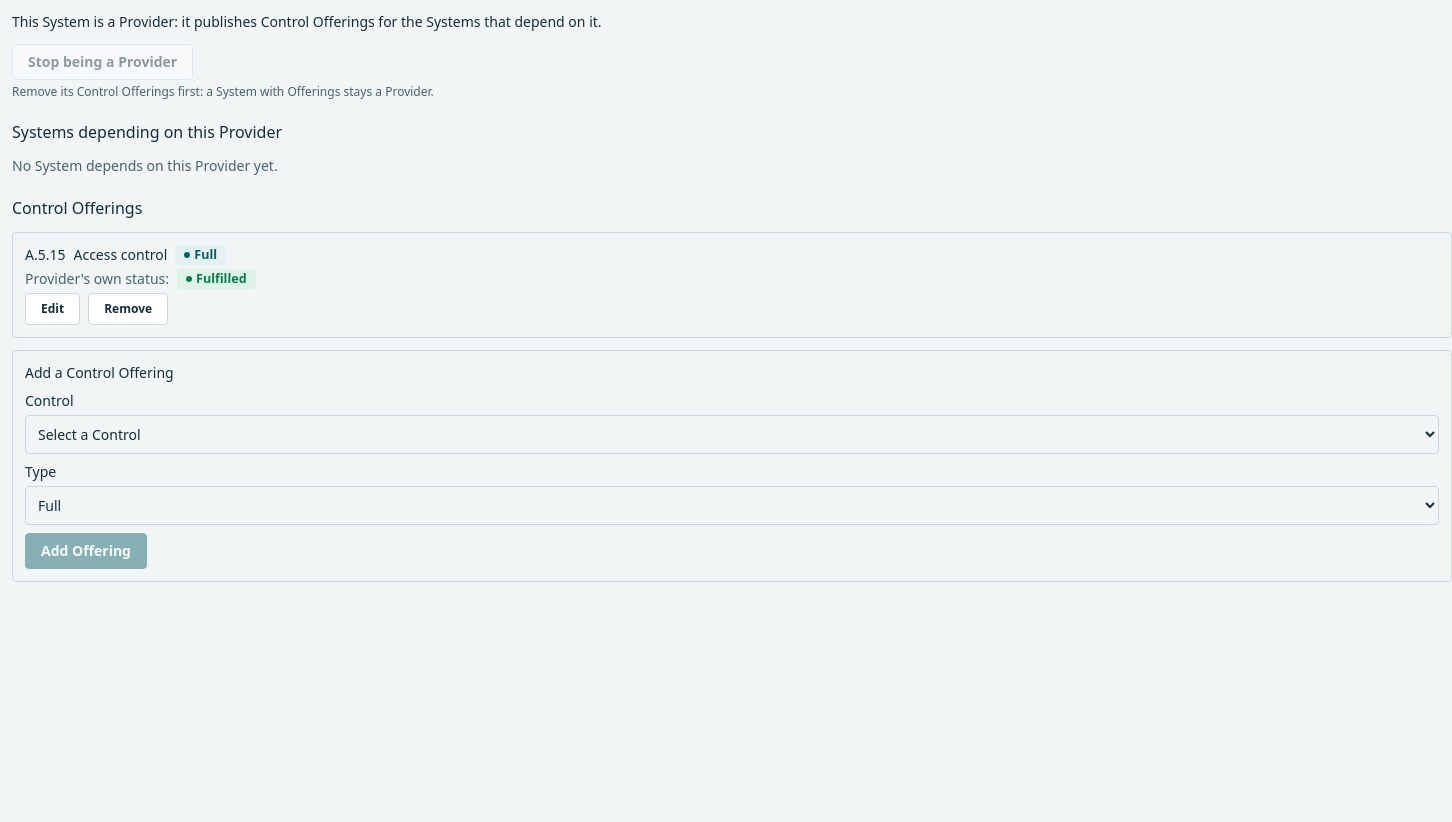
Scenario: SystemProvider (#123) › removing an Offering › lets the owner stop being a Provider once the last Offering is removed
This screenshot has width=1452, height=822.
Expected: the button "Stop being a Provider" is disabled, 12,44 -> 193,80
Click the button with aria-label "Remove Offering A.5.15": (128,309) 88,293 -> 168,325
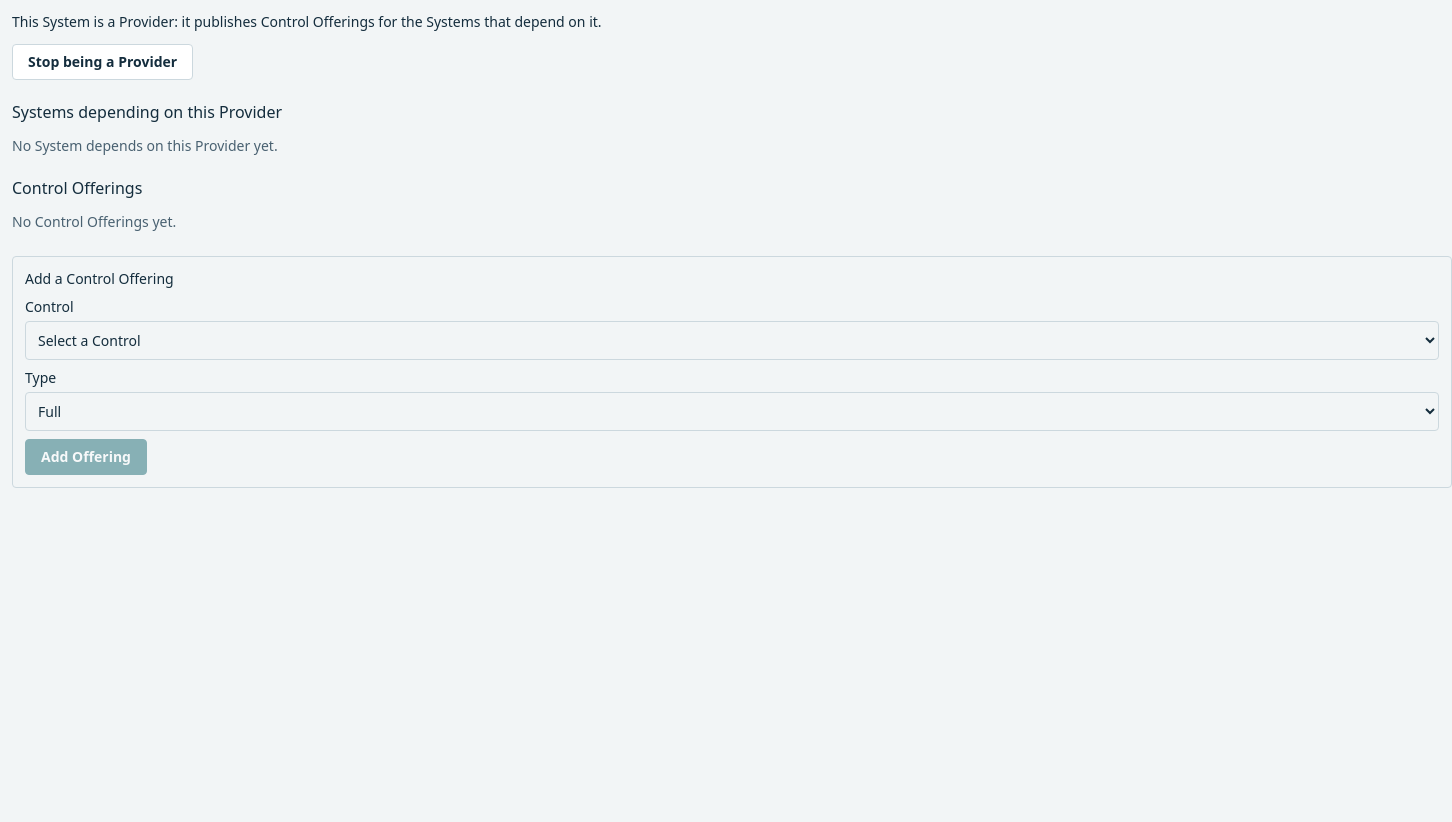
Now the button "Stop being a Provider" is enabled, box 12,44 -> 193,80
